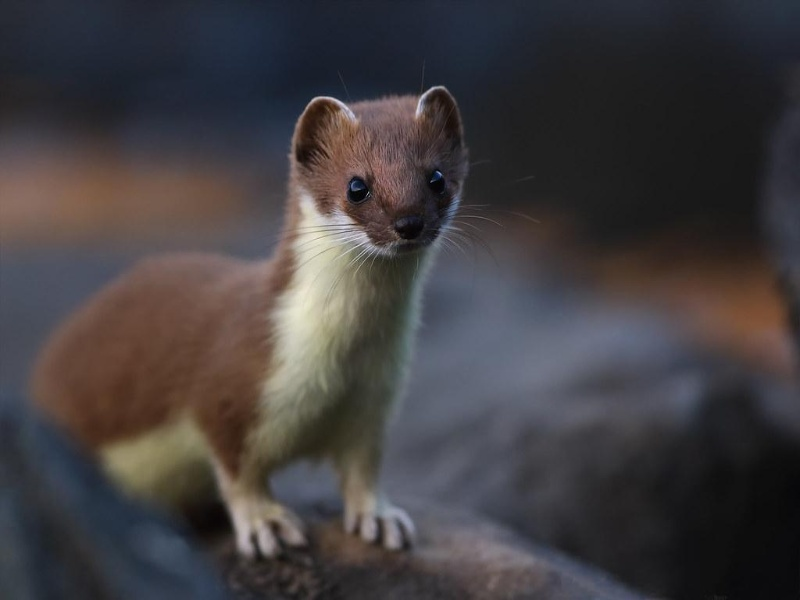minkish: (23, 84, 469, 559)
